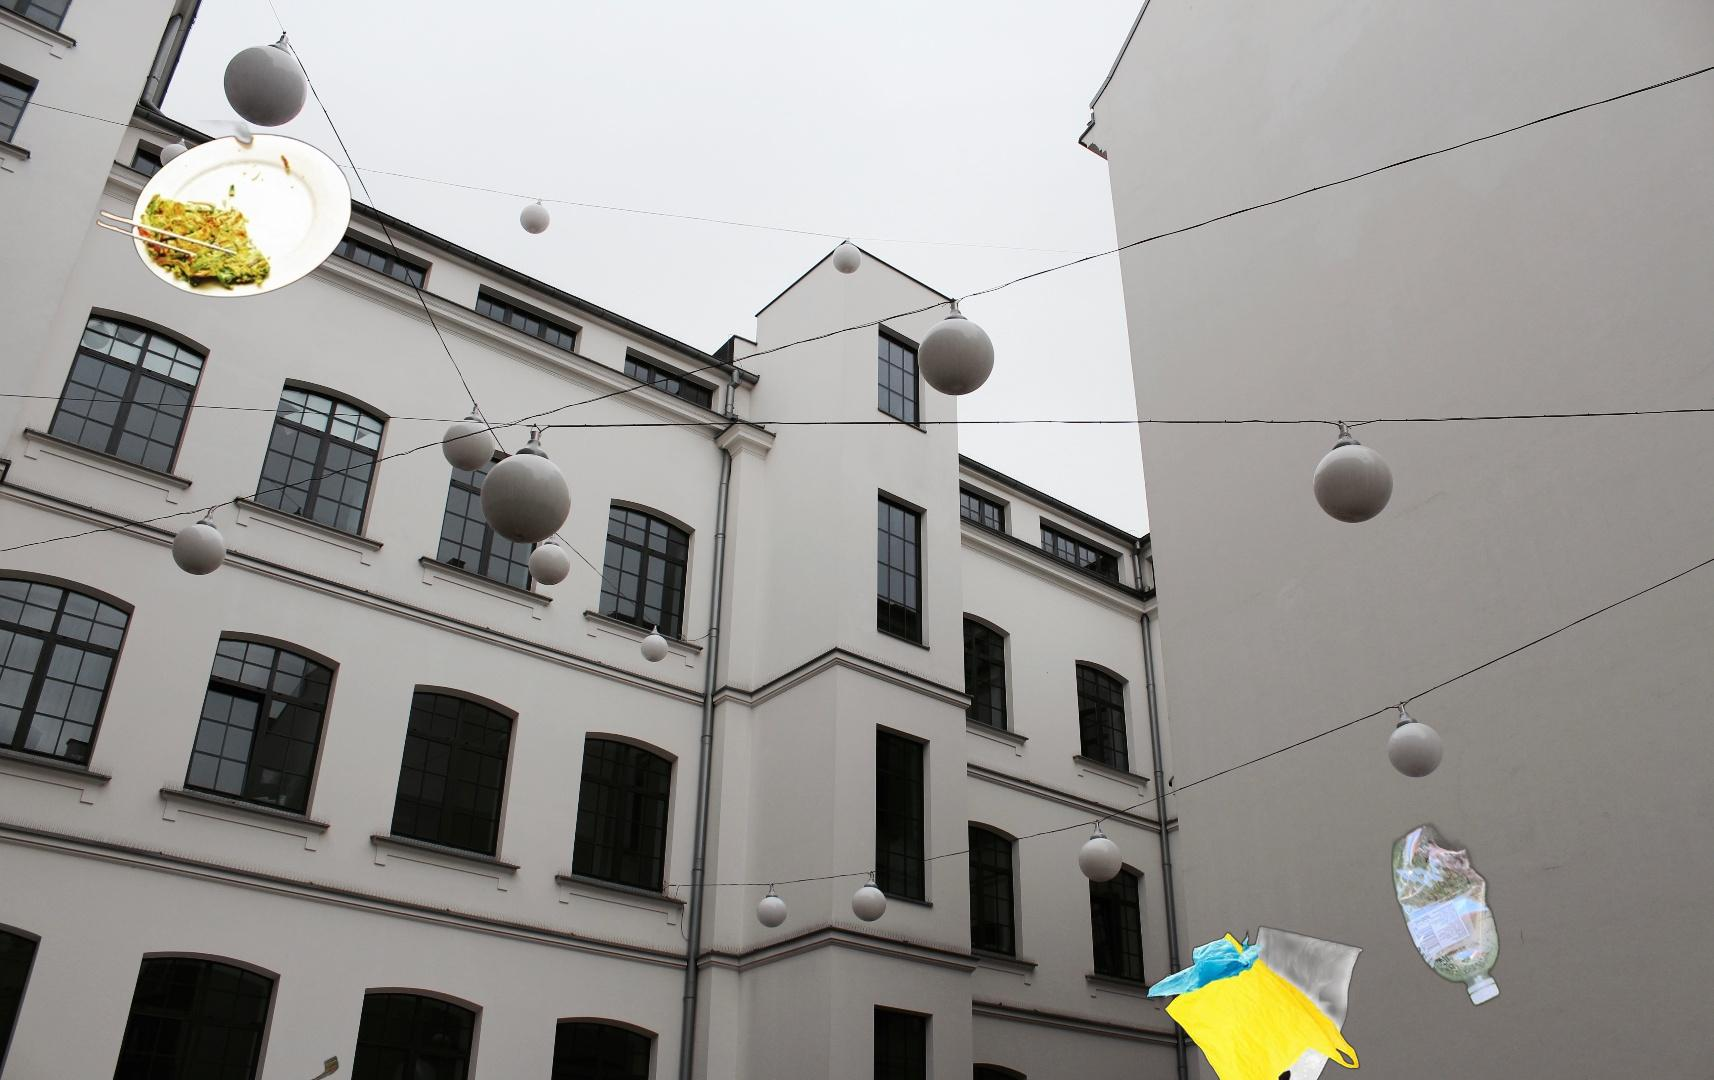battery: (224, 1054, 345, 1080)
biological: (46, 119, 354, 300)
plastic-bag: (1146, 924, 1366, 1080)
plastic-bottles: (1387, 819, 1504, 1012)
